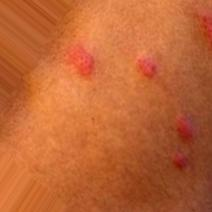Fleas: (60, 39, 100, 80), (132, 51, 160, 81), (173, 112, 196, 144), (194, 11, 211, 47), (171, 153, 191, 172)
